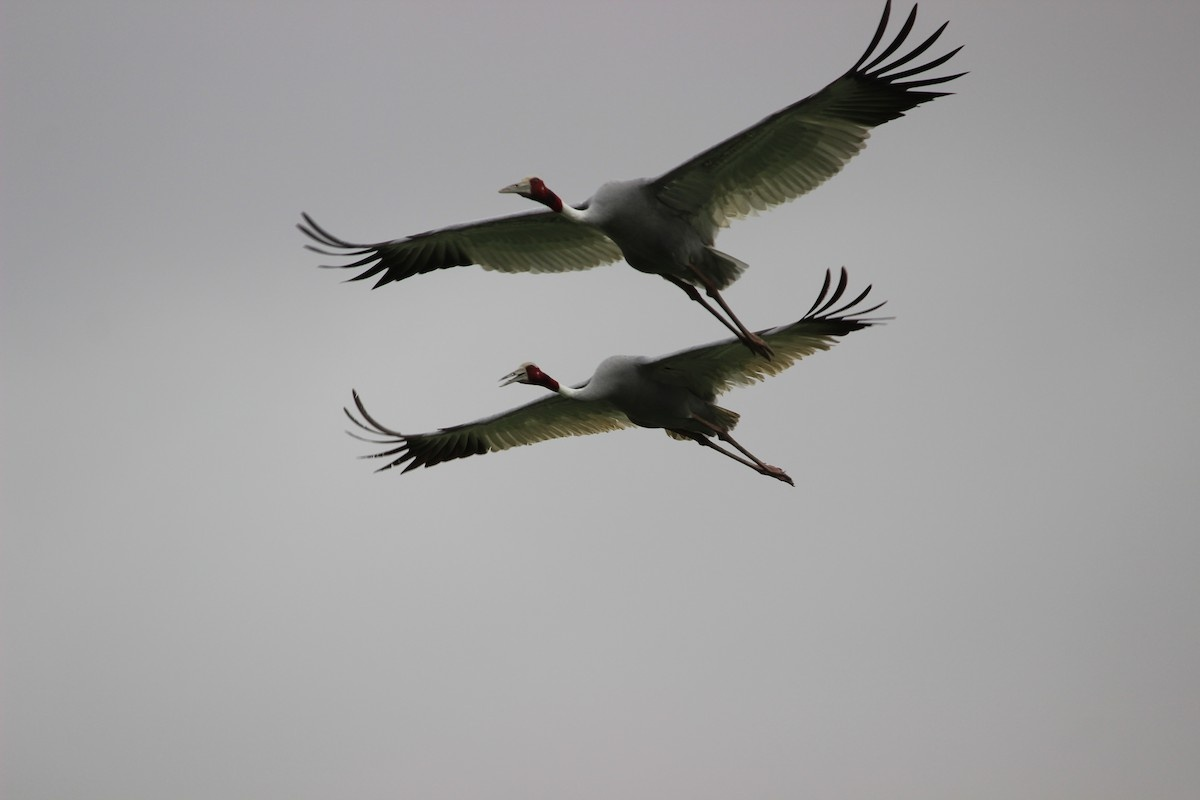crane: (292, 1, 1011, 360), (338, 265, 901, 526)
